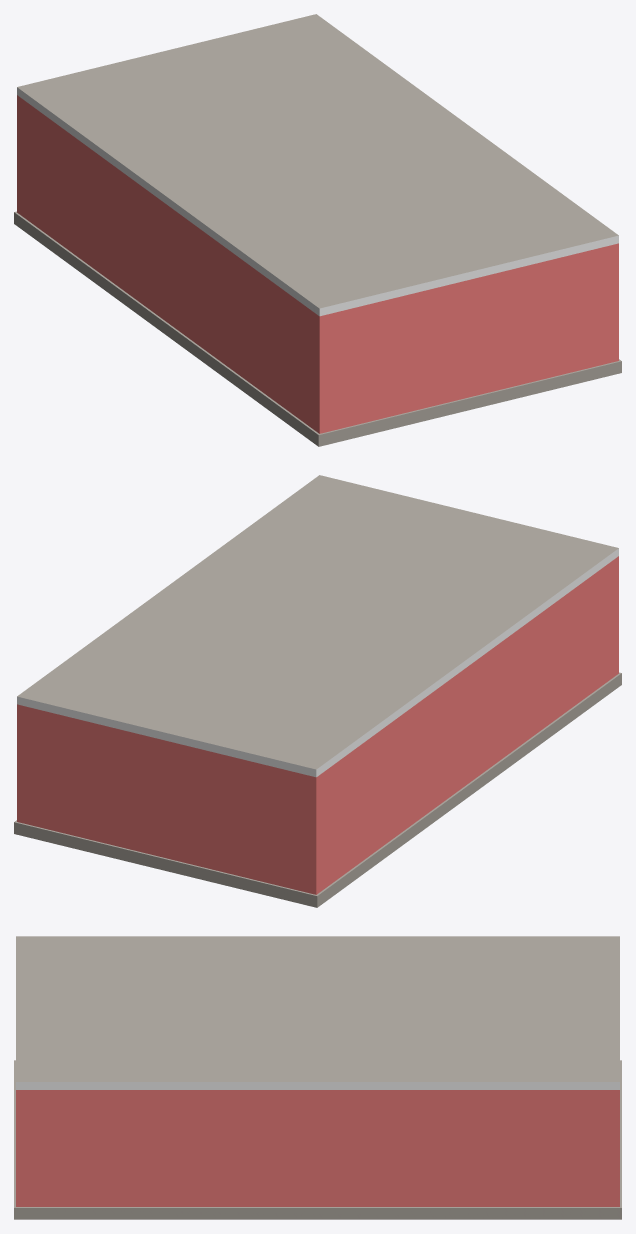
File: ForeFloor.fbx
3 views of the same model, one above another, from view 1: azimuth 30°, elevation 25°; view 2: azimuth 150°, elevation 25°; view 3: azimuth 270°, elevation 25° (orthographic).
Parts seen in each view (by area): view 1: ForeFloor; view 2: ForeFloor; view 3: ForeFloor.
Part boxes in pixels (x1,y1,x2,y2): ForeFloor: (14, 14, 621, 446); ForeFloor: (14, 475, 621, 907); ForeFloor: (14, 936, 621, 1219).
Size of the model in its own units: 1620 by 700 by 2820.
